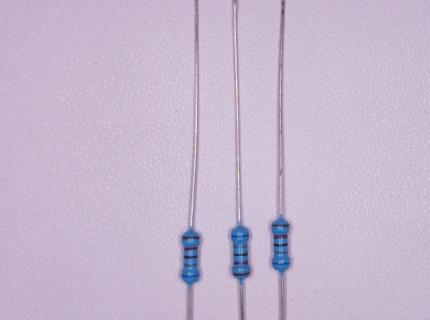Black band: (184, 255, 198, 259), (234, 252, 248, 256), (274, 243, 288, 247)
Blue band: (231, 234, 249, 238), (181, 273, 199, 277), (272, 262, 290, 265)
Brown band: (232, 272, 251, 276), (182, 235, 200, 239), (271, 224, 290, 227)
Grey band: (184, 263, 198, 267), (233, 245, 247, 248), (274, 251, 288, 254)
Red band: (234, 260, 248, 265), (273, 235, 288, 239), (184, 246, 198, 250)
